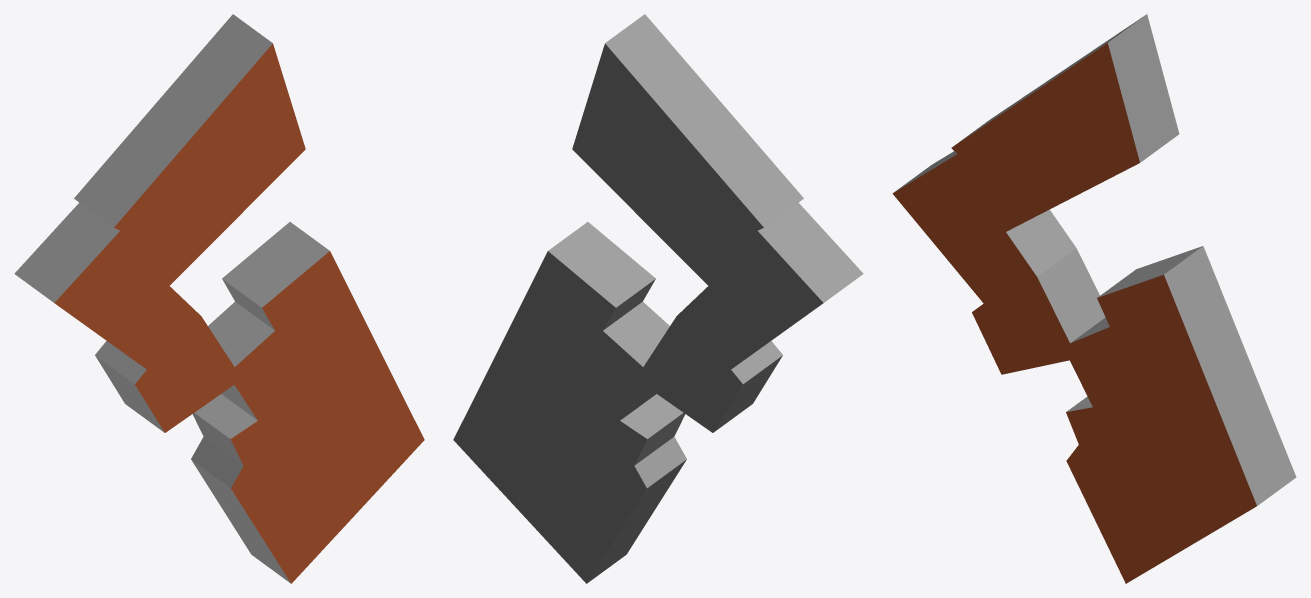
File: construction_4980_assumed_A_Casa_h6m.obj
3 renders of one model, left to right at view 1: azimuth 30°, elevation 25°; view 2: azimuth 150°, elevation 25°; view 3: azimuth 330°, elevation 25°, orthographic.
Visible parts, largest first — view 1: construction_4980_assumed_A_Casa; view 2: construction_4980_assumed_A_Casa; view 3: construction_4980_assumed_A_Casa.
Part boxes in pixels (x1,y1,x2,y2): construction_4980_assumed_A_Casa: [14, 14, 424, 583]; construction_4980_assumed_A_Casa: [453, 14, 863, 583]; construction_4980_assumed_A_Casa: [892, 14, 1296, 583].
Bounding box in the file's own units: 32.07 × 45.1 × 6.
